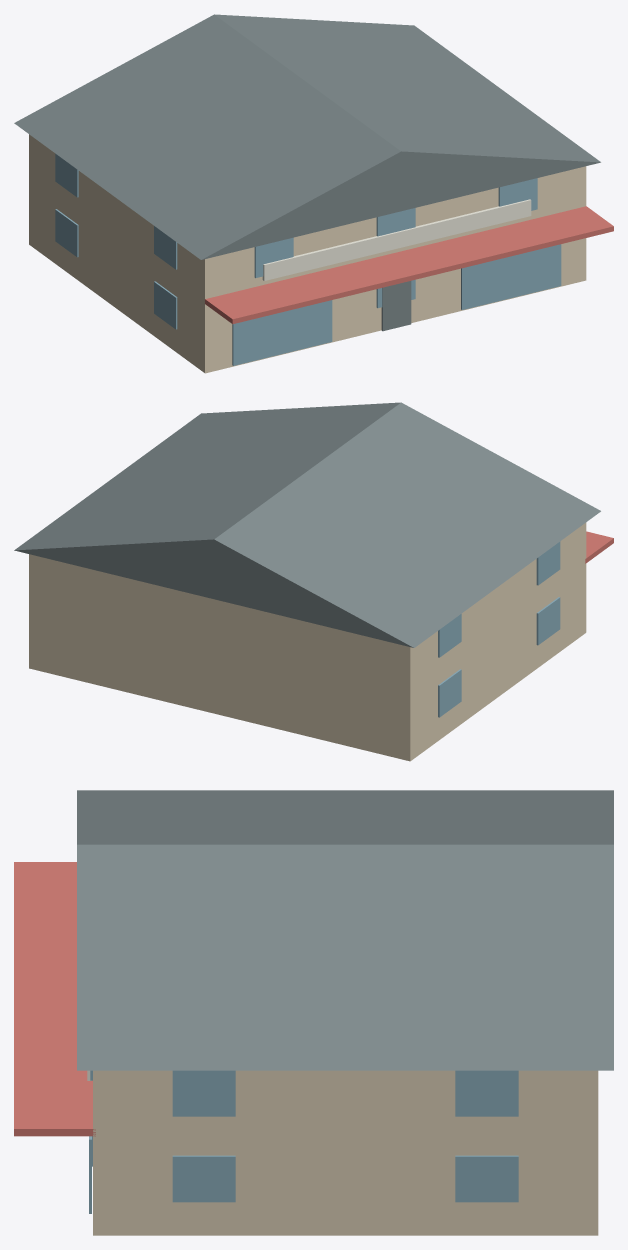
3 renders of one model, top to bottom at view 1: azimuth 30°, elevation 25°; view 2: azimuth 150°, elevation 25°; view 3: azimuth 270°, elevation 25°, orthographic. The views are drawn at different scales.
Bounding box in the file's own units: 21 × 9 × 19.
